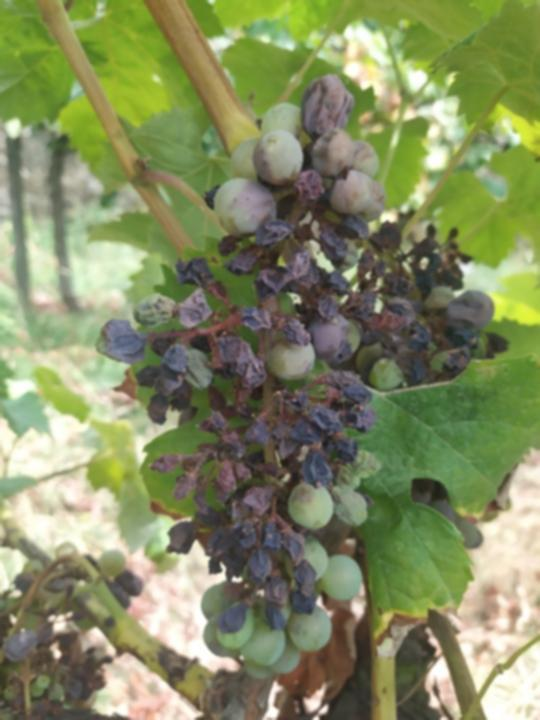grape: (92, 69, 498, 682)
